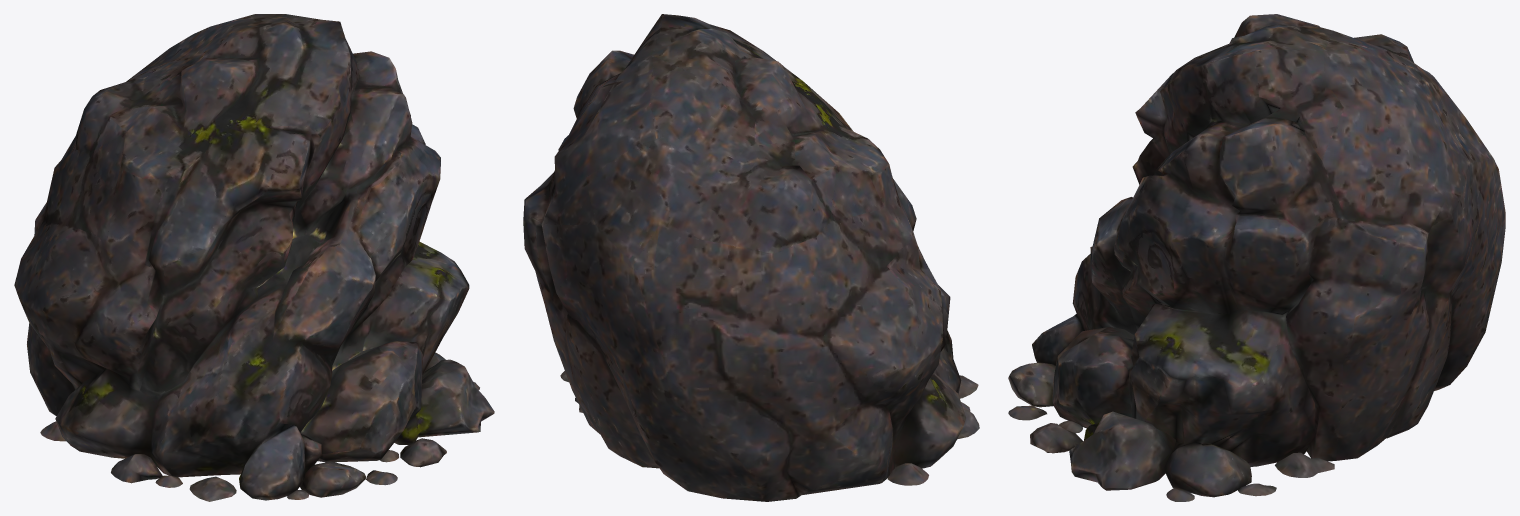
Rendered from ureisen-leer.glb.
3 views of the same model, side by side, from view 1: azimuth 30°, elevation 25°; view 2: azimuth 150°, elevation 25°; view 3: azimuth 270°, elevation 25° (orthographic). The views are drawn at different scales.
Visible parts, largest first — view 1: baum; view 2: baum; view 3: baum.
Boxes of the visible parts, x1,y1,x2,y2 form: baum: (14, 14, 494, 501); baum: (523, 14, 979, 501); baum: (1008, 14, 1505, 501).
Size of the model in its own units: 1.77 by 1.6 by 1.82.
Materials: 1 (1 with a texture image).
